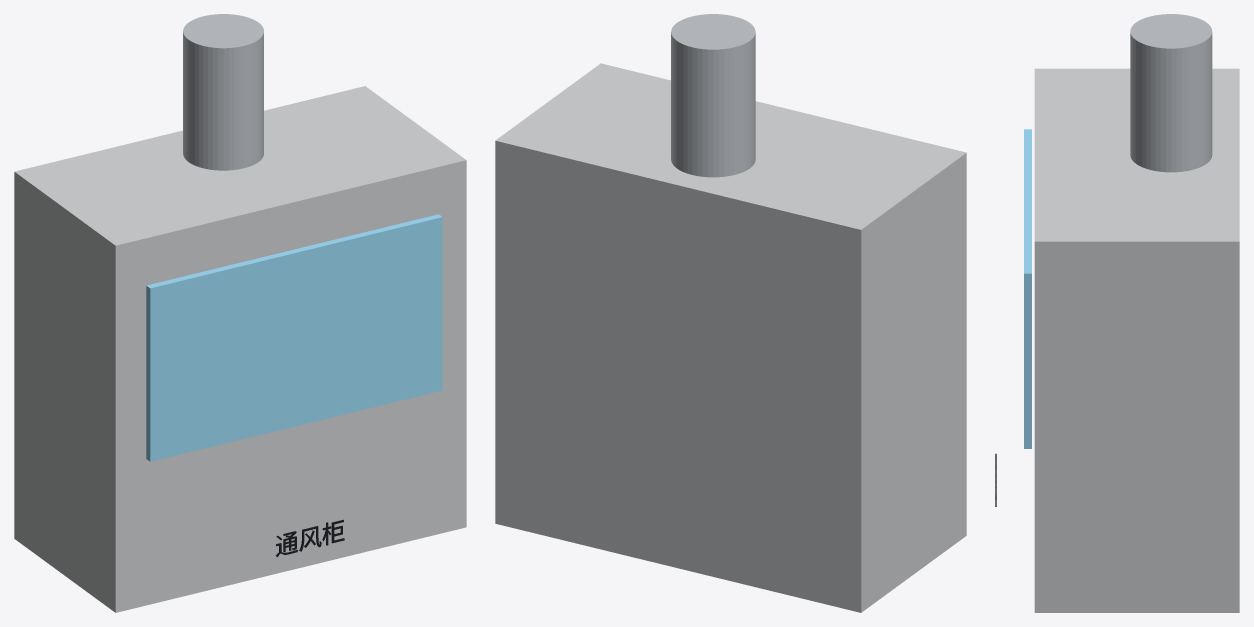
Rendered from asset_fumehood.glb.
3 views of the same model, side by side, from view 1: azimuth 30°, elevation 25°; view 2: azimuth 150°, elevation 25°; view 3: azimuth 270°, elevation 25° (orthographic). The views are drawn at different scales.
Parts seen in each view (by area): view 1: cabinet, glass_sash, exhaust_stack, asset_label; view 2: cabinet, exhaust_stack; view 3: cabinet, exhaust_stack, glass_sash.
Part boxes in pixels (<box>): cabinet: <box>14,86,466,612</box>; glass_sash: <box>146,214,442,461</box>; exhaust_stack: <box>183,14,263,170</box>; asset_label: <box>276,519,344,557</box>; cabinet: <box>495,63,966,612</box>; exhaust_stack: <box>671,14,755,177</box>; cabinet: <box>1034,68,1239,612</box>; exhaust_stack: <box>1130,14,1212,172</box>; glass_sash: <box>1024,129,1031,448</box>.
Bounding box in the file's own units: 1.8 × 2.4 × 1.07.
